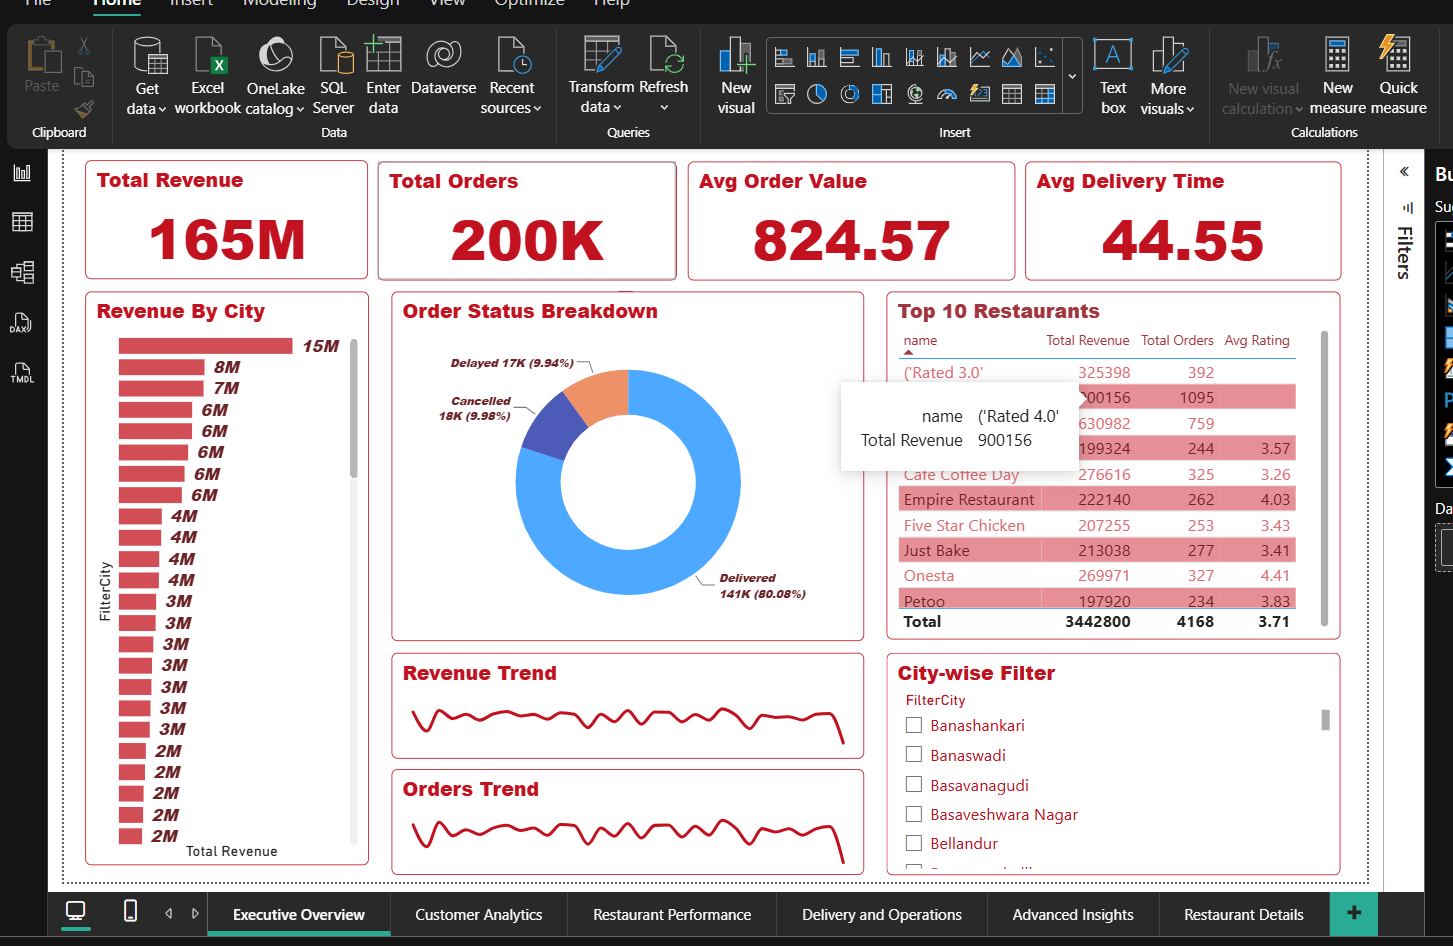

The dashboard page shown, as its layout file describes it:
{"tool":"powerbi","page":{"name":"Executive Overview","canvas":[1280,720],"ordinal":0},"visuals":[{"type":"card","title":"Total Revenue","fields":{"Values":["Orders.Total Revenue"]},"box":[21.4,11.4,277.9,117.1],"z":0},{"type":"card","title":"Total Orders","fields":{"Values":["Orders.Total Orders"]},"box":[308.3,11.7,293.3,116.7],"z":1000},{"type":"card","title":"Avg Order Value","fields":{"Values":["Orders.Average Order Value"]},"box":[611.7,11.7,321.7,116.7],"z":2000},{"type":"card","title":"Avg Delivery Time","fields":{"Values":["Orders.Average Delivery Time"]},"box":[943.3,11.7,310,116.7],"z":3000},{"type":"lineChart","title":"Revenue Trend","fields":{"Y":["Orders.Total Revenue"],"Category":["DateTable.Date.Variation.Date Hierarchy.Year","DateTable.Date.Variation.Date Hierarchy.Month"]},"box":[321.4,494.3,464.3,104.3],"z":4000},{"type":"lineChart","title":"Orders Trend","fields":{"Category":["DateTable.Date.Variation.Date Hierarchy.Year","DateTable.Date.Variation.Date Hierarchy.Month"],"Y":["Orders.Total Orders"]},"box":[321.4,608.6,464.3,104.3],"z":5000},{"type":"barChart","title":"Revenue By City","fields":{"Category":["Customers.FilterCity"],"Y":["Orders.Total Revenue"]},"box":[21.4,140,278.6,562.9],"z":6000},{"type":"donutChart","title":"Order Status Breakdown","fields":{"Category":["Orders.OrderStatus"],"Y":["Orders.Total Orders"]},"box":[321.4,140,464.3,342.9],"z":7000},{"type":"tableEx","title":"Top 10 Restaurants","fields":{"Values":["Restaurants.name","Orders.Total Revenue","Orders.Total Orders","Orders.Average Rating"]},"box":[807.1,140,445.7,341.4],"z":8000},{"type":"slicer","title":"City-wise Filter","fields":{"Values":["Customers.FilterCity"]},"box":[807.1,494.3,445.7,218.6],"z":9000}]}

Visuals, with their boxes on the page's 1280x720 design canvas (x1, y1, x2, y2). These are canvas units, not pixel positions in the 1453x946 screenshot, which may show the page scaled, cropped or inside an application window:
"Total Revenue" card: BBox(21, 11, 299, 128)
"Total Orders" card: BBox(308, 12, 602, 128)
"Avg Order Value" card: BBox(612, 12, 933, 128)
"Avg Delivery Time" card: BBox(943, 12, 1253, 128)
"Revenue Trend" lineChart: BBox(321, 494, 786, 599)
"Orders Trend" lineChart: BBox(321, 609, 786, 713)
"Revenue By City" barChart: BBox(21, 140, 300, 703)
"Order Status Breakdown" donutChart: BBox(321, 140, 786, 483)
"Top 10 Restaurants" tableEx: BBox(807, 140, 1253, 481)
"City-wise Filter" slicer: BBox(807, 494, 1253, 713)
